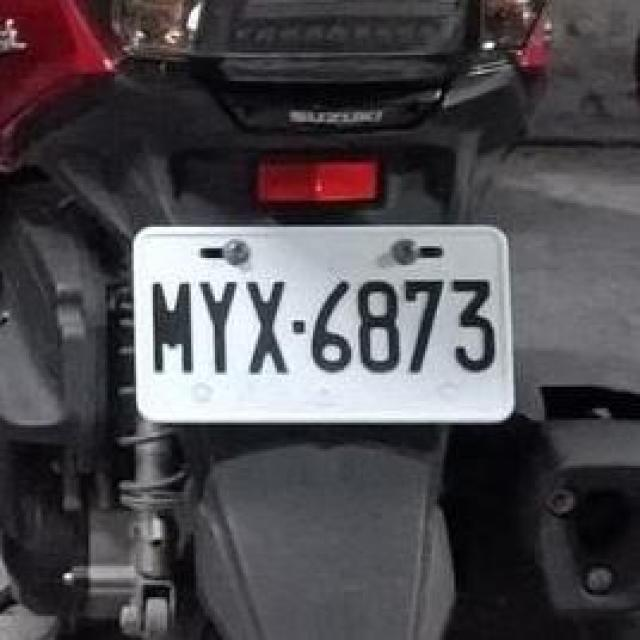W: (119, 210, 528, 435)
